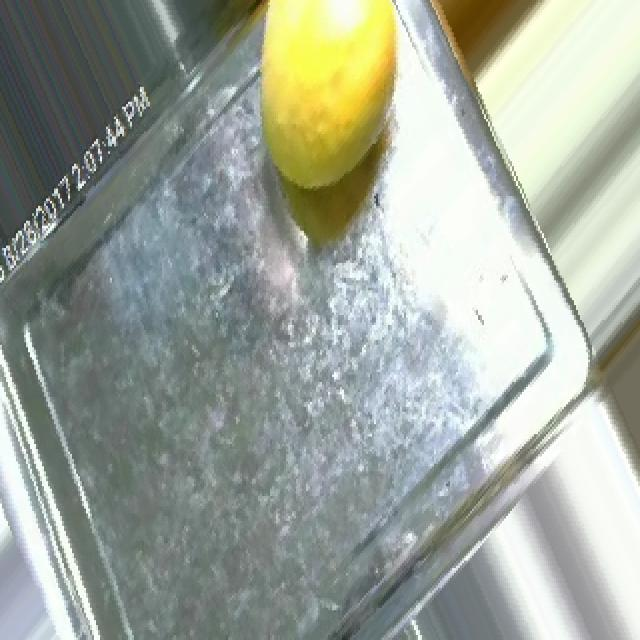fruit: (206, 0, 446, 236), (570, 243, 640, 521)
